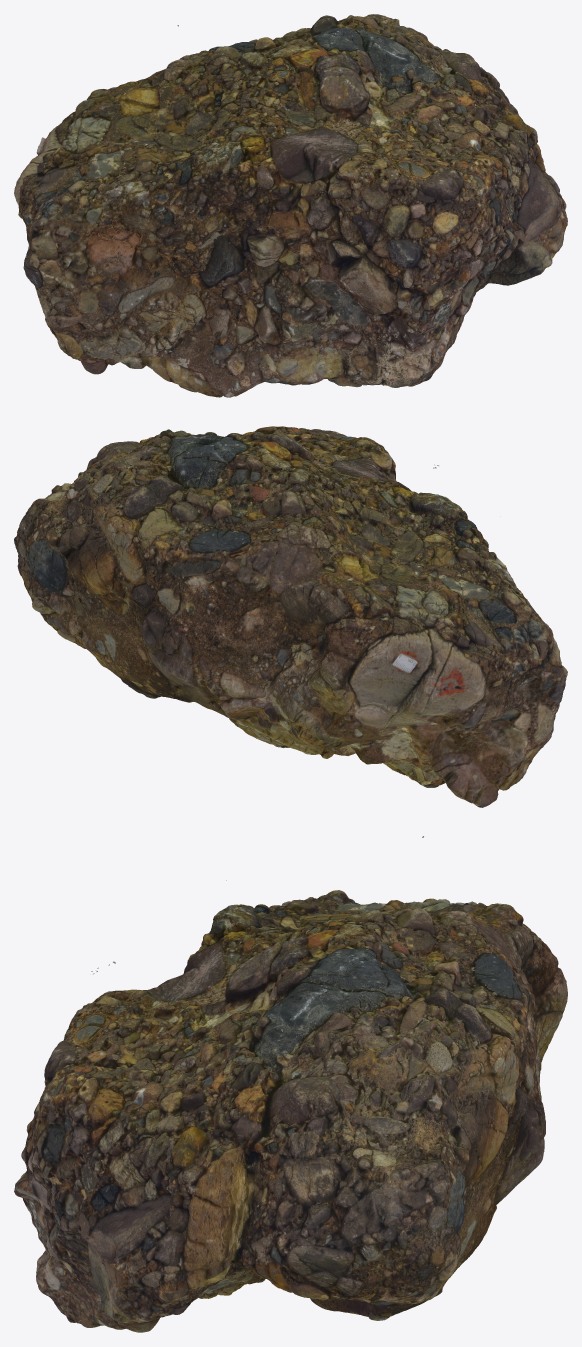
Rendered from sample-01.glb.
The picture shows the model from 3 angles, top to bottom: view 1: azimuth 30°, elevation 25°; view 2: azimuth 150°, elevation 25°; view 3: azimuth 270°, elevation 25°; orthographic projection. The views are drawn at different scales.
Size of the model in its own units: 12.69 by 7.91 by 8.93.
5 materials, 5 textured.
